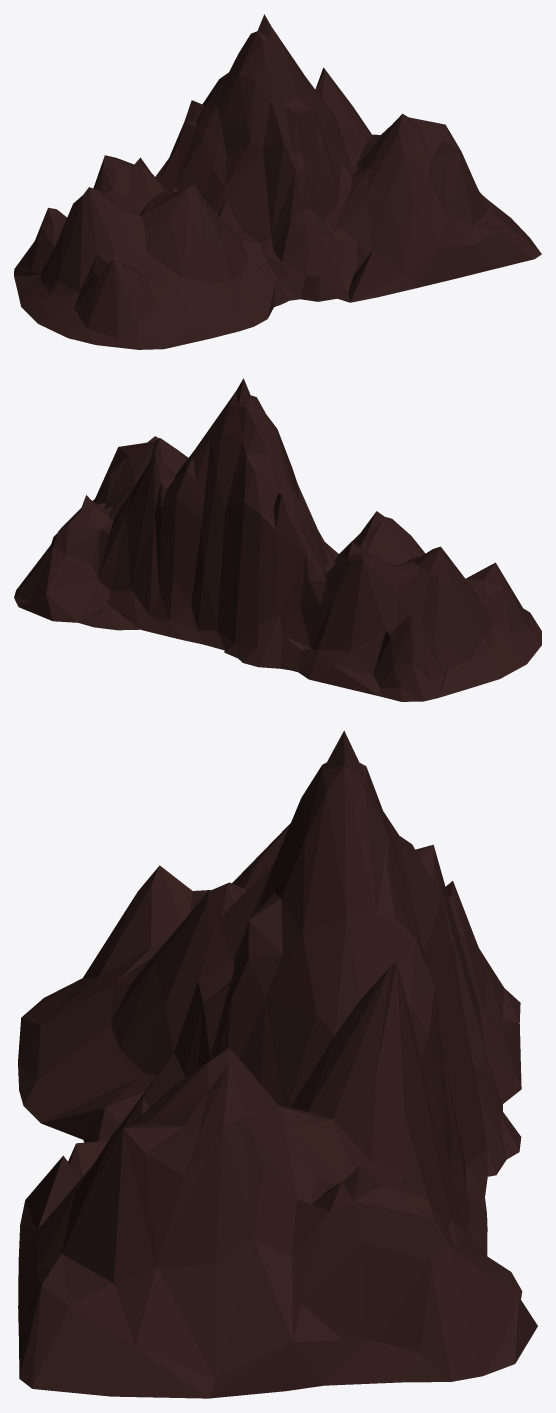
The model's file is Mountain lowpoly.fbx.
3 views of the same model, one above another, from view 1: azimuth 30°, elevation 25°; view 2: azimuth 150°, elevation 25°; view 3: azimuth 270°, elevation 25° (orthographic). The views are drawn at different scales.
Parts seen in each view (by area): view 1: Mountain Lowpoly.003; view 2: Mountain Lowpoly.003; view 3: Mountain Lowpoly.003.
Part boxes in pixels (x1=…): Mountain Lowpoly.003: x1=14, y1=14, x2=541, y2=349; Mountain Lowpoly.003: x1=14, y1=378, x2=541, y2=701; Mountain Lowpoly.003: x1=18, y1=730, x2=537, y2=1398.
Size of the model in its own units: 5345 by 2579 by 2622.
